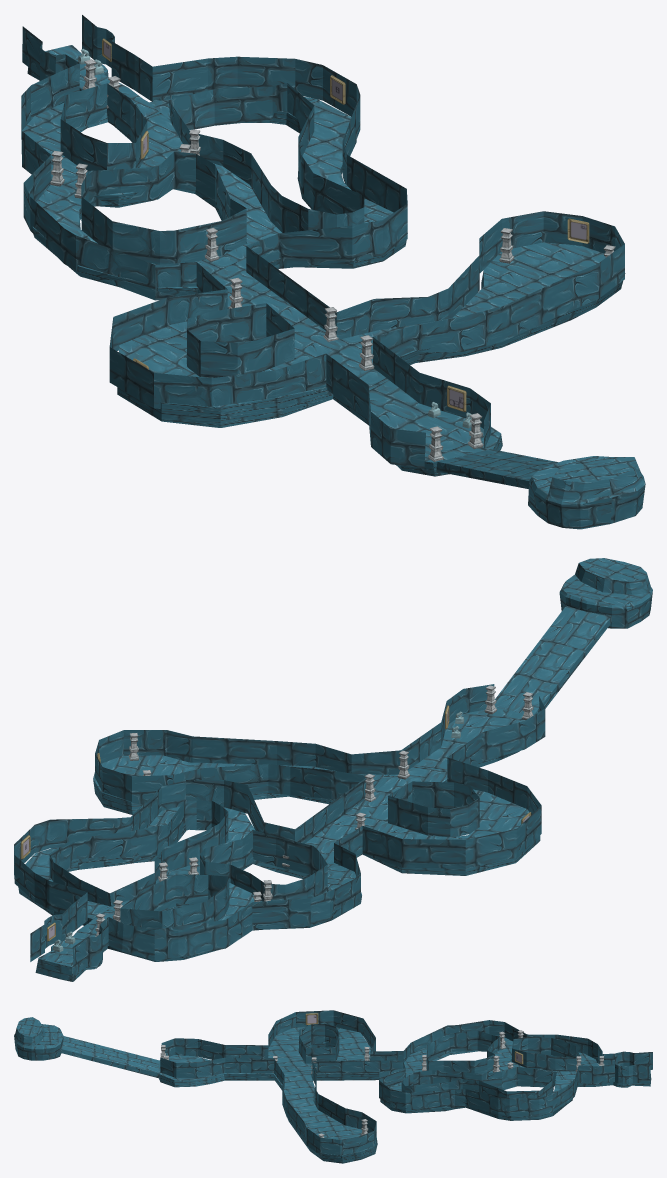
The model's file is maze.fbx.
The picture shows the model from 3 angles, top to bottom: view 1: azimuth 30°, elevation 25°; view 2: azimuth 150°, elevation 25°; view 3: azimuth 270°, elevation 25°; orthographic projection. The views are drawn at different scales.
Parts seen in each view (by area): view 1: 外圈背景, 場景, 內圈背景, 出口; view 2: 外圈背景, 內圈背景, 場景, 出口; view 3: 外圈背景, 場景, 內圈背景, 出口.
Boxes of the visible parts, x1=… form: 外圈背景: x1=21, y1=15, x2=624, y2=468; 場景: x1=22, y1=45, x2=625, y2=476; 內圈背景: x1=60, y1=83, x2=364, y2=377; 出口: x1=436, y1=449, x2=645, y2=529; 外圈背景: x1=14, y1=684, x2=545, y2=975; 內圈背景: x1=49, y1=781, x2=479, y2=929; 場景: x1=18, y1=707, x2=540, y2=981; 出口: x1=494, y1=558, x2=652, y2=715; 外圈背景: x1=160, y1=1010, x2=652, y2=1157; 場景: x1=159, y1=1027, x2=651, y2=1163; 內圈背景: x1=299, y1=1023, x2=581, y2=1098; 出口: x1=14, y1=1017, x2=159, y2=1078.
Size of the model in its own units: 27759 by 5941 by 59822.
13 materials, 13 textured.
